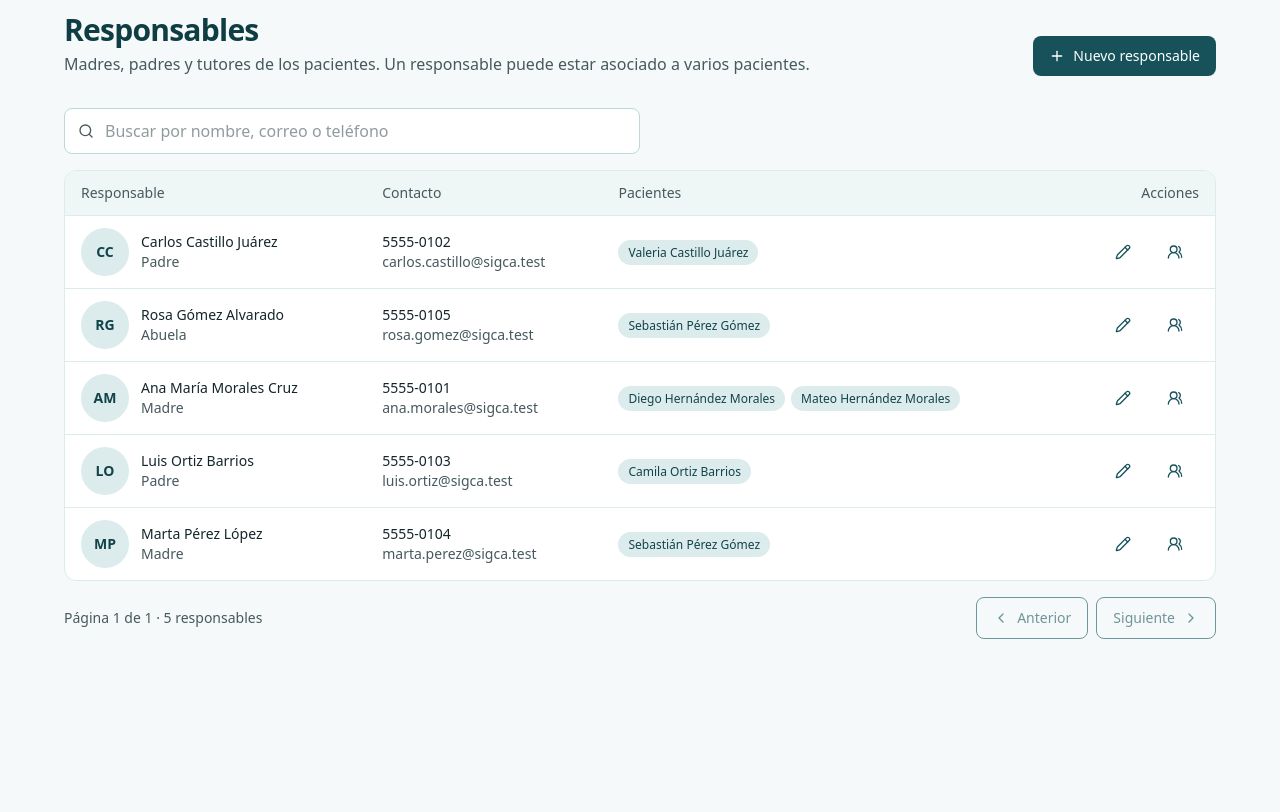
Test case: Responsables › busca por nombre, correo o teléfono sin importar tildes
This screenshot has width=1280, height=812.
Check: the text "Ana María Morales Cruz" is shown, box x1=141 y1=378 x2=298 y2=398
Type "perez" into the search field named "Buscar responsable". click: (352, 131)
box: x1=64 y1=108 x2=640 y2=154
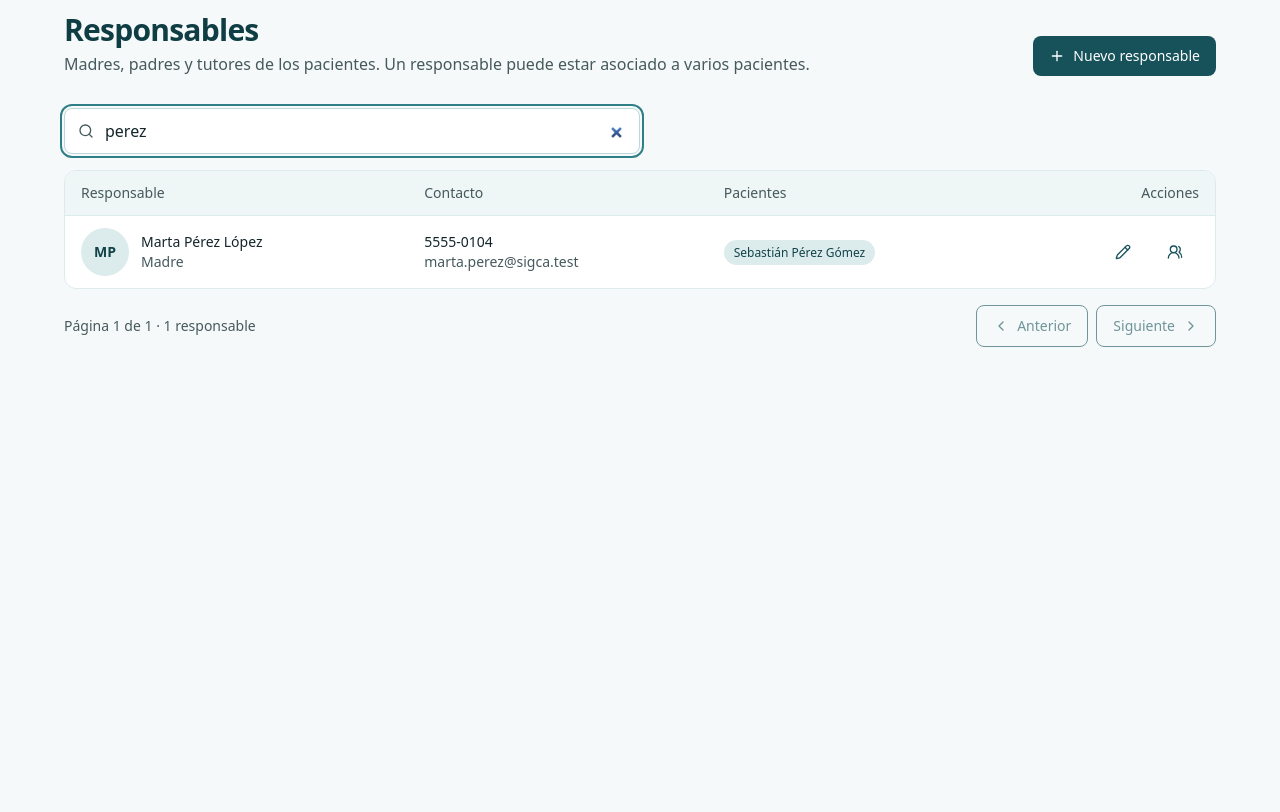
Check: the text "Marta Pérez López" is shown, box x1=141 y1=232 x2=262 y2=252
Check: the number of rows is 2, box x1=65 y1=171 x2=1215 y2=216; x1=65 y1=216 x2=1215 y2=288
Replace the text in the search field named "Buscar responsable" with "5555-0103". click: (352, 131)
box: x1=64 y1=108 x2=640 y2=154
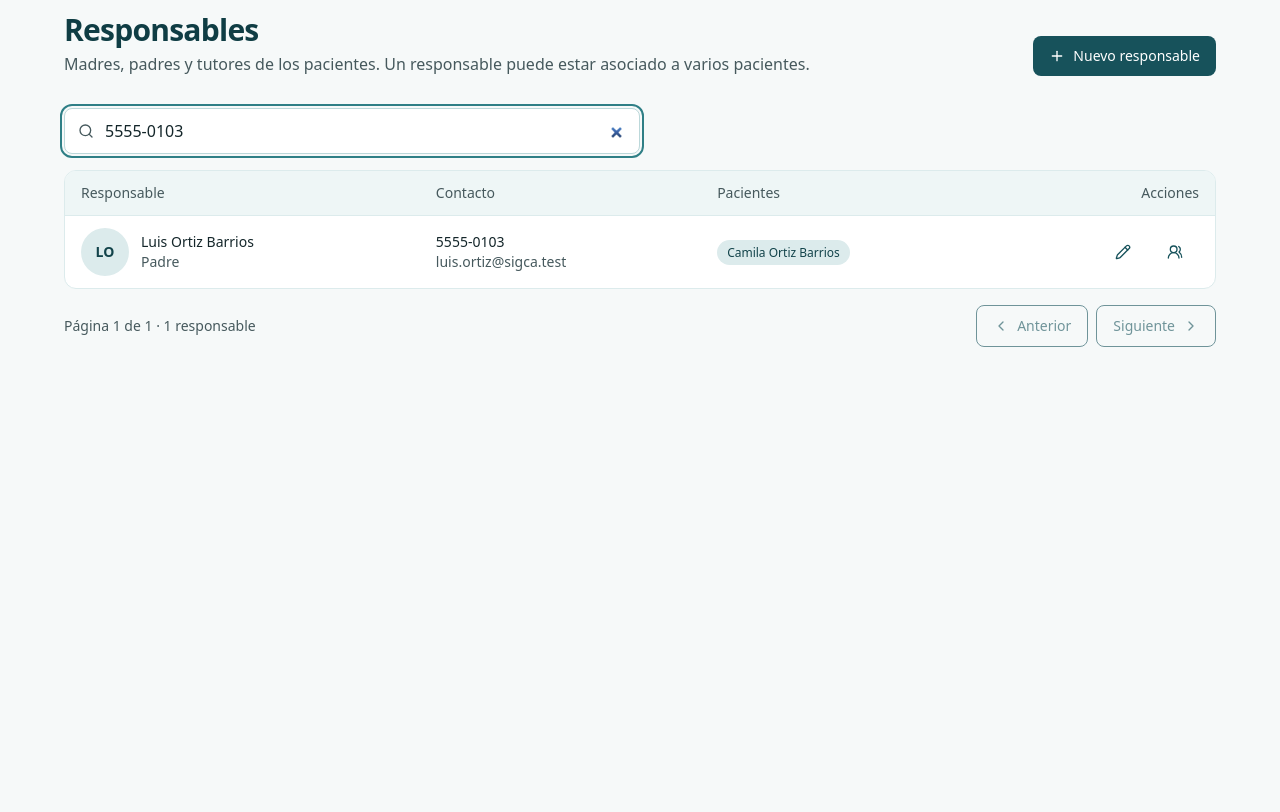
Check: the number of rows is 2, box x1=65 y1=171 x2=1215 y2=216; x1=65 y1=216 x2=1215 y2=288
Check: the text "Luis Ortiz Barrios" is shown, box x1=141 y1=232 x2=254 y2=252
